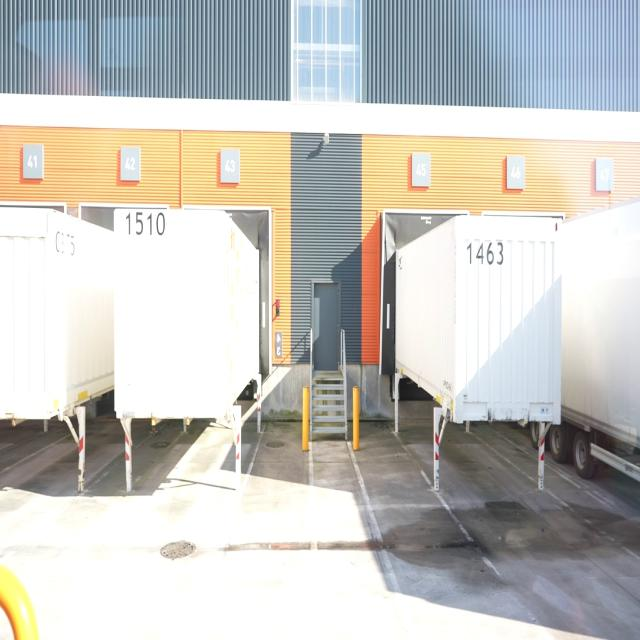Code: (123, 207, 168, 241), (464, 238, 506, 271)
